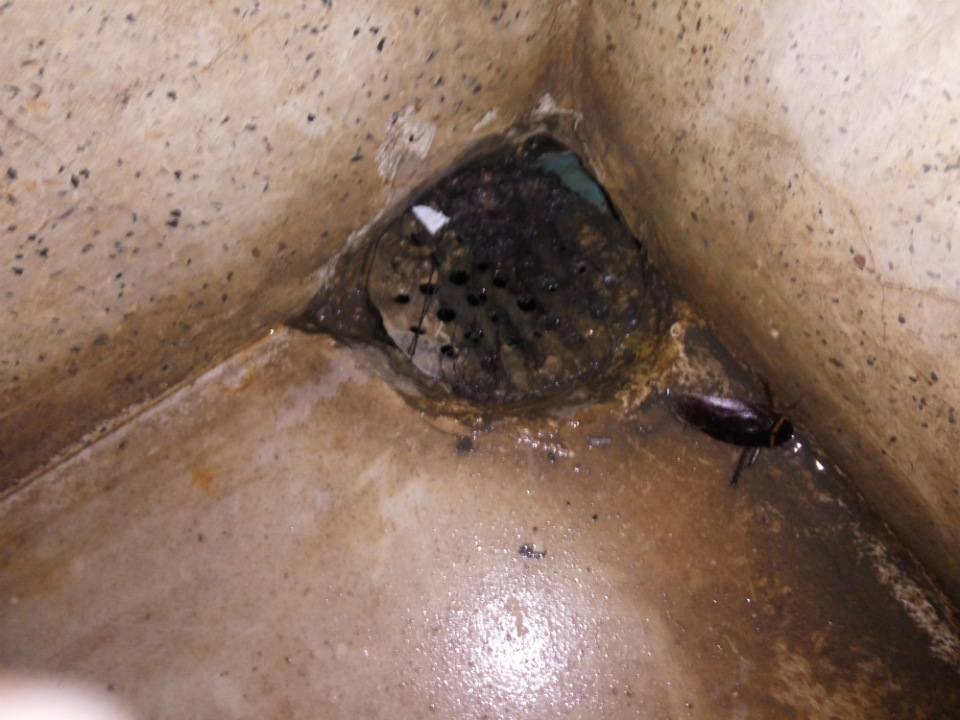cockroach: (681, 369, 822, 479)
